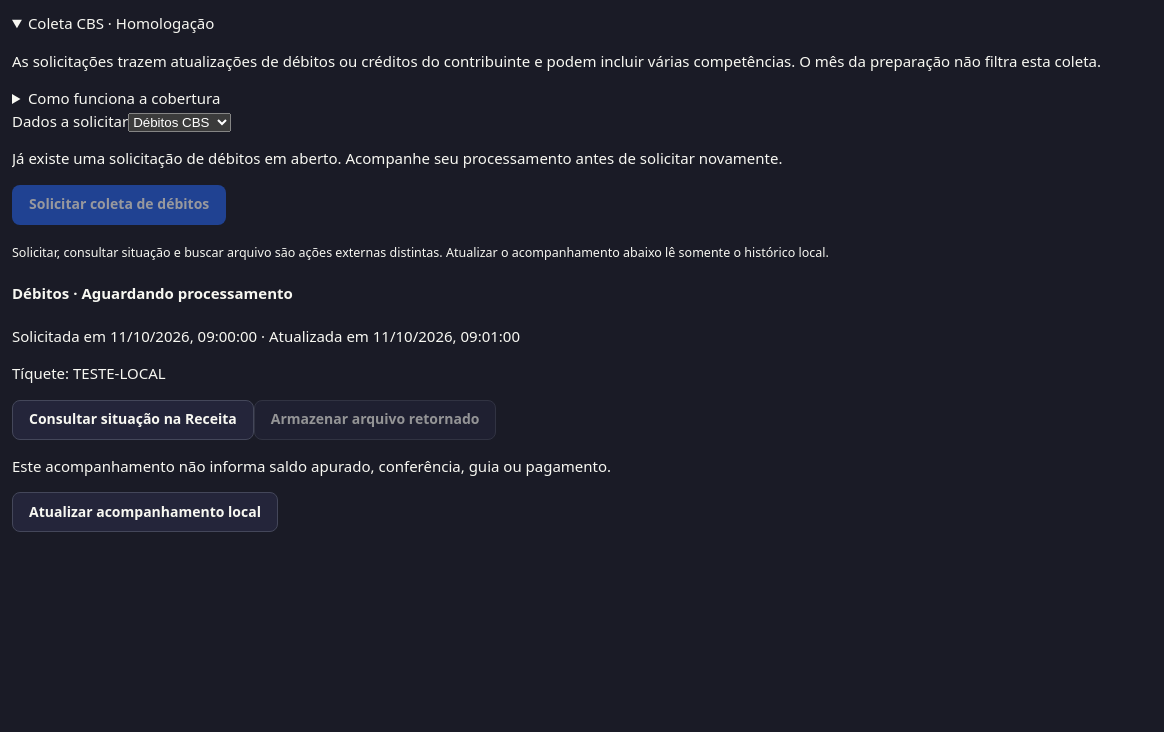
Test: situação e arquivo são atos separados, cada um seguido somente de leitura local
The image size is (1164, 732).
expect the text "Tíquete: TESTE-LOCAL" is shown: met, box [12,363,166,383]
expect the button "Armazenar arquivo retornado" is disabled: met, box [254,400,496,440]
Step 1. Click the button "Consultar situação na Receita" → coordinates (133, 420), box [12,400,254,440]
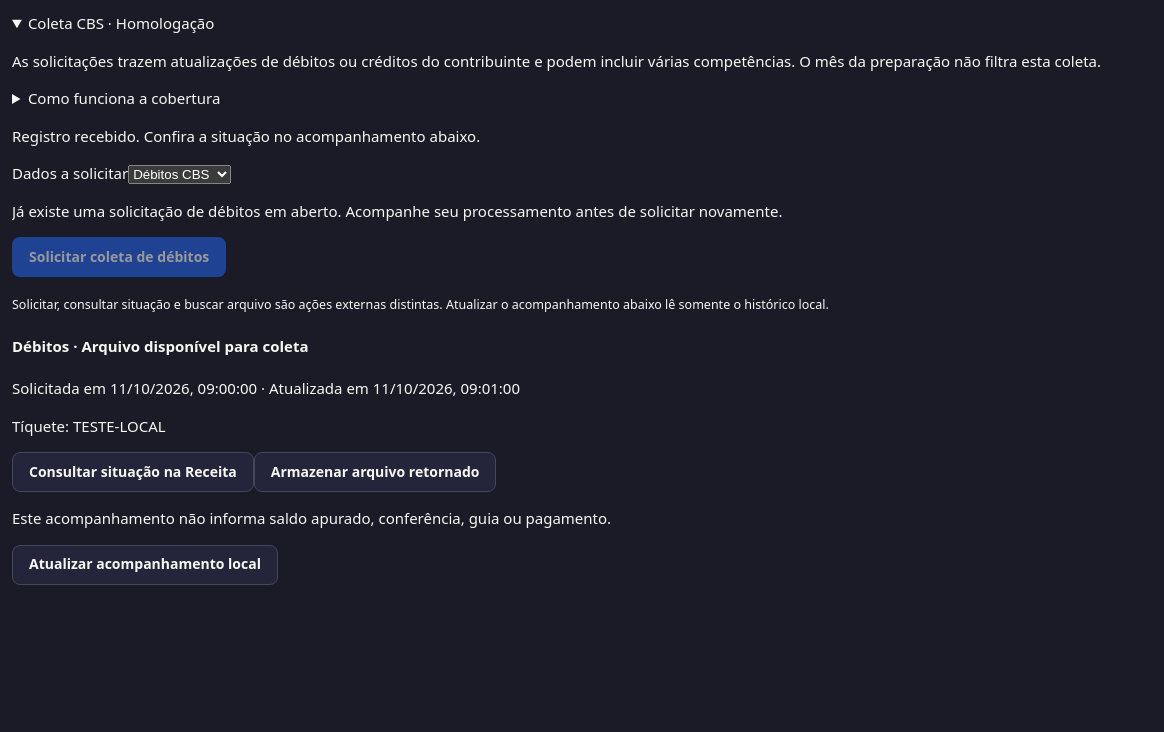
expect the heading "Débitos · Arquivo disponível para coleta" is shown: met, box [12,336,308,356]
Step 2. Click the button "Armazenar arquivo retornado" → coordinates (375, 472), box [254,452,496,492]
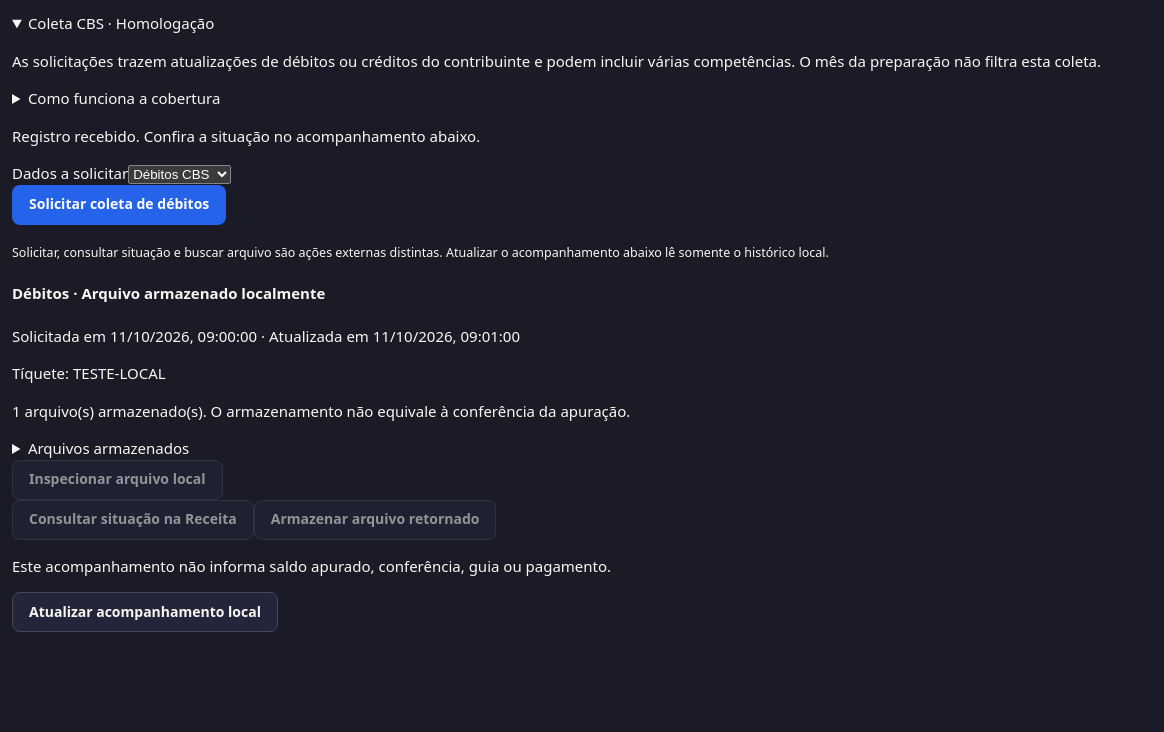
expect the heading "Débitos · Arquivo armazenado localmente" is shown: met, box [12,283,325,303]
